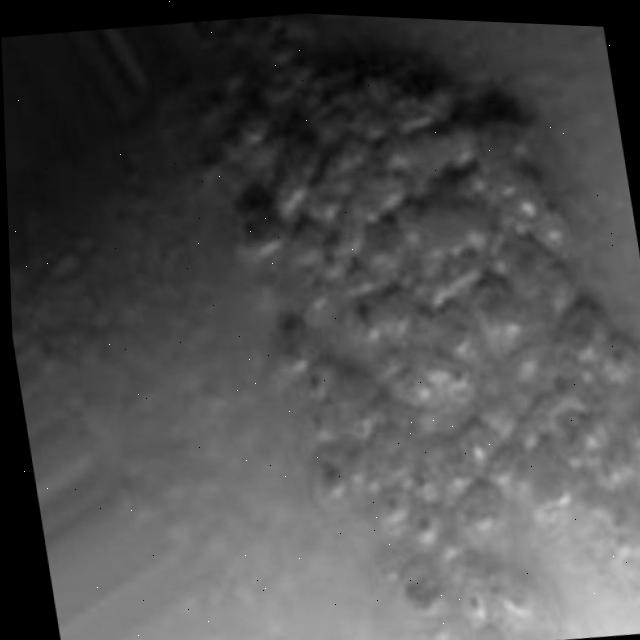Shingles: (177, 21, 640, 640)
